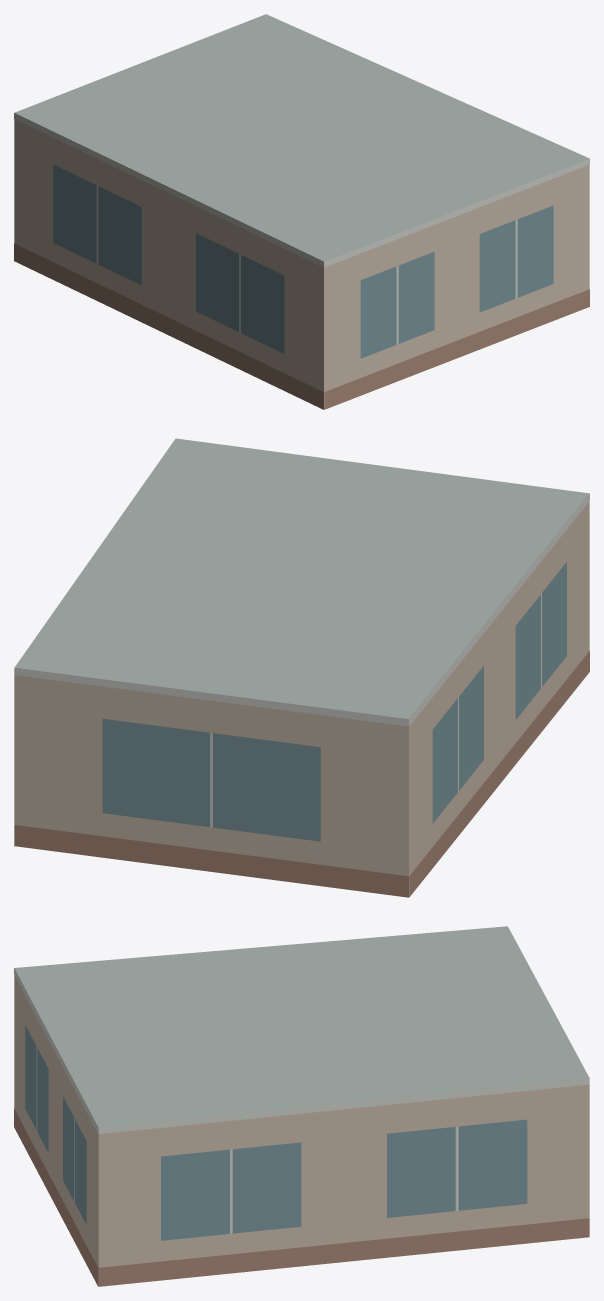
The model's file is survey-upis-32474654.glb.
3 views of the same model, one above another, from view 1: azimuth 30°, elevation 25°; view 2: azimuth 150°, elevation 25°; view 3: azimuth 270°, elevation 25° (orthographic). The views are drawn at different scales.
Parts seen in each view (by area): view 1: survey-upis-32474654.tmp; view 2: survey-upis-32474654.tmp; view 3: survey-upis-32474654.tmp.
Part boxes in pixels (box(x1,y1,x2,y2)): survey-upis-32474654.tmp: box(14, 14, 589, 409); survey-upis-32474654.tmp: box(14, 438, 589, 897); survey-upis-32474654.tmp: box(14, 926, 589, 1286).
Size of the model in its own units: 8.3 by 3.05 by 10.01.
